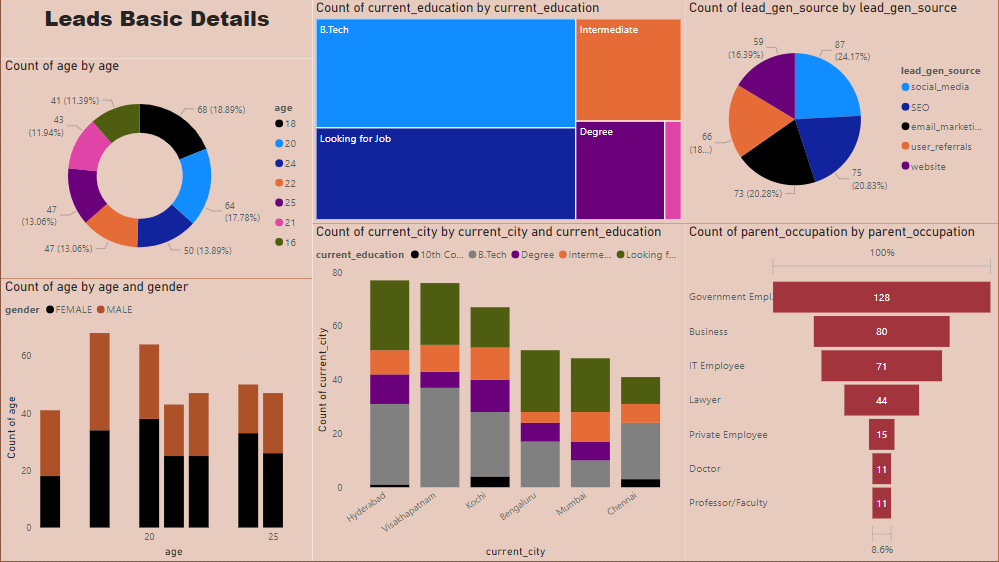

What the dashboard file says about the page in this screenshot:
{"tool":"powerbi","page":{"name":"Page 1","canvas":[1280,720],"ordinal":0},"visuals":[{"type":"columnChart","fields":{"Category":["leads_basic_details_cln.age"],"Series":["leads_basic_details_cln.gender"],"Y":["CountNonNull(leads_basic_details_cln.age)"]},"box":[0,357.9,400.2,362.1],"z":0},{"type":"textbox","box":[0,0,400.2,74.7],"z":1000},{"type":"donutChart","fields":{"Category":["leads_basic_details_cln.age"],"Y":["CountNonNull(leads_basic_details_cln.age)"]},"box":[0,74.7,400.2,283.2],"z":2000},{"type":"treemap","fields":{"Group":["leads_basic_details_cln.current_education"],"Values":["CountNonNull(leads_basic_details_cln.current_education)"]},"box":[398.7,0,479.1,287.4],"z":3000},{"type":"lineStackedColumnComboChart","fields":{"Category":["leads_basic_details_cln.current_city"],"Y":["CountNonNull(leads_basic_details_cln.current_city)"],"Series":["leads_basic_details_cln.current_education"]},"box":[398.7,287.4,479.1,432.6],"z":3001},{"type":"funnel","fields":{"Category":["leads_basic_details_cln.parent_occupation"],"Y":["CountNonNull(leads_basic_details_cln.parent_occupation)"]},"box":[877.8,287.4,401.6,432.6],"z":3002},{"type":"pieChart","fields":{"Category":["leads_basic_details_cln.lead_gen_source"],"Y":["CountNonNull(leads_basic_details_cln.lead_gen_source)"]},"box":[878,0,402,287],"z":3003}]}

Visuals, with their boxes in screenshot pixels (x1, y1, x2, y2), scaled from the page's 1280x720 canvas onto the 999x562 screenshot:
columnChart - leads_basic_details_cln.age x leads_basic_details_cln.gender: 0, 279, 312, 561
textbox: 0, 0, 312, 58
donutChart - leads_basic_details_cln.age x CountNonNull(leads_basic_details_cln.age): 0, 58, 312, 279
treemap - leads_basic_details_cln.current_education x CountNonNull(leads_basic_details_cln.current_education): 311, 0, 685, 224
lineStackedColumnComboChart - leads_basic_details_cln.current_city x CountNonNull(leads_basic_details_cln.current_city): 311, 224, 685, 561
funnel - leads_basic_details_cln.parent_occupation x CountNonNull(leads_basic_details_cln.parent_occupation): 685, 224, 998, 561
pieChart - leads_basic_details_cln.lead_gen_source x CountNonNull(leads_basic_details_cln.lead_gen_source): 685, 0, 998, 224
